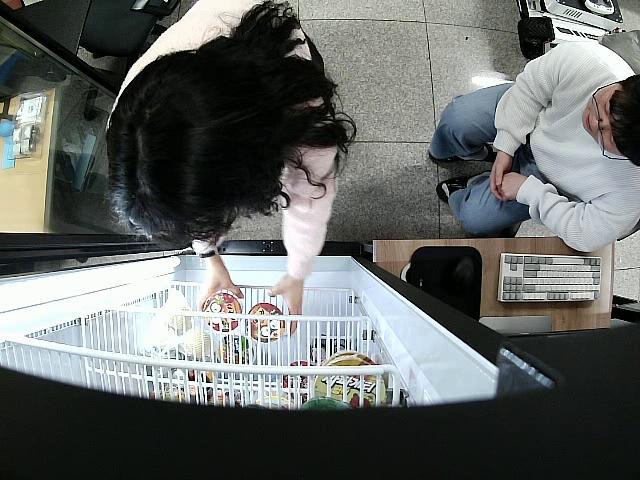00_hand: (195, 265, 244, 313), (268, 277, 303, 334)
06_nuguri_S: (202, 291, 241, 333)
